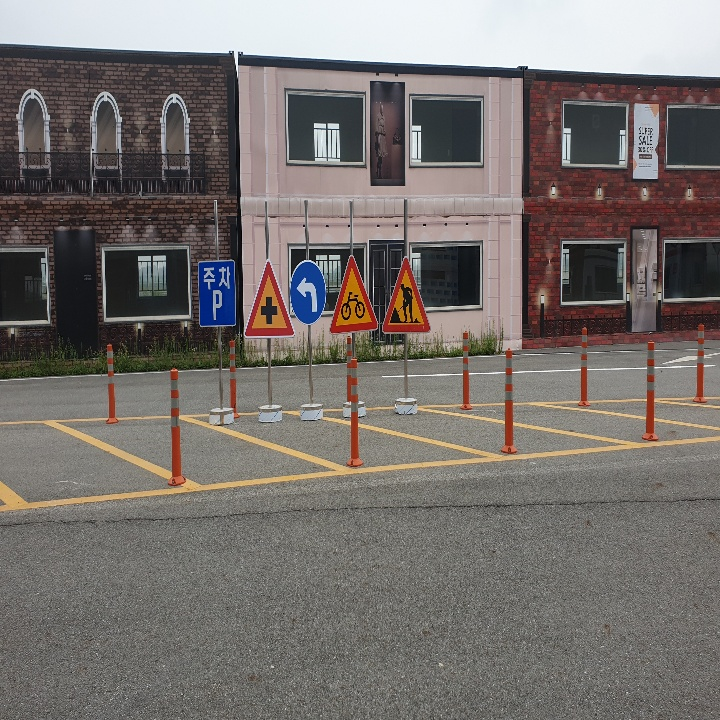bicycle: (332, 258, 377, 331)
const: (390, 275, 423, 325)
inter: (258, 294, 281, 328)
left: (292, 276, 323, 317)
parking: (207, 286, 227, 320)
